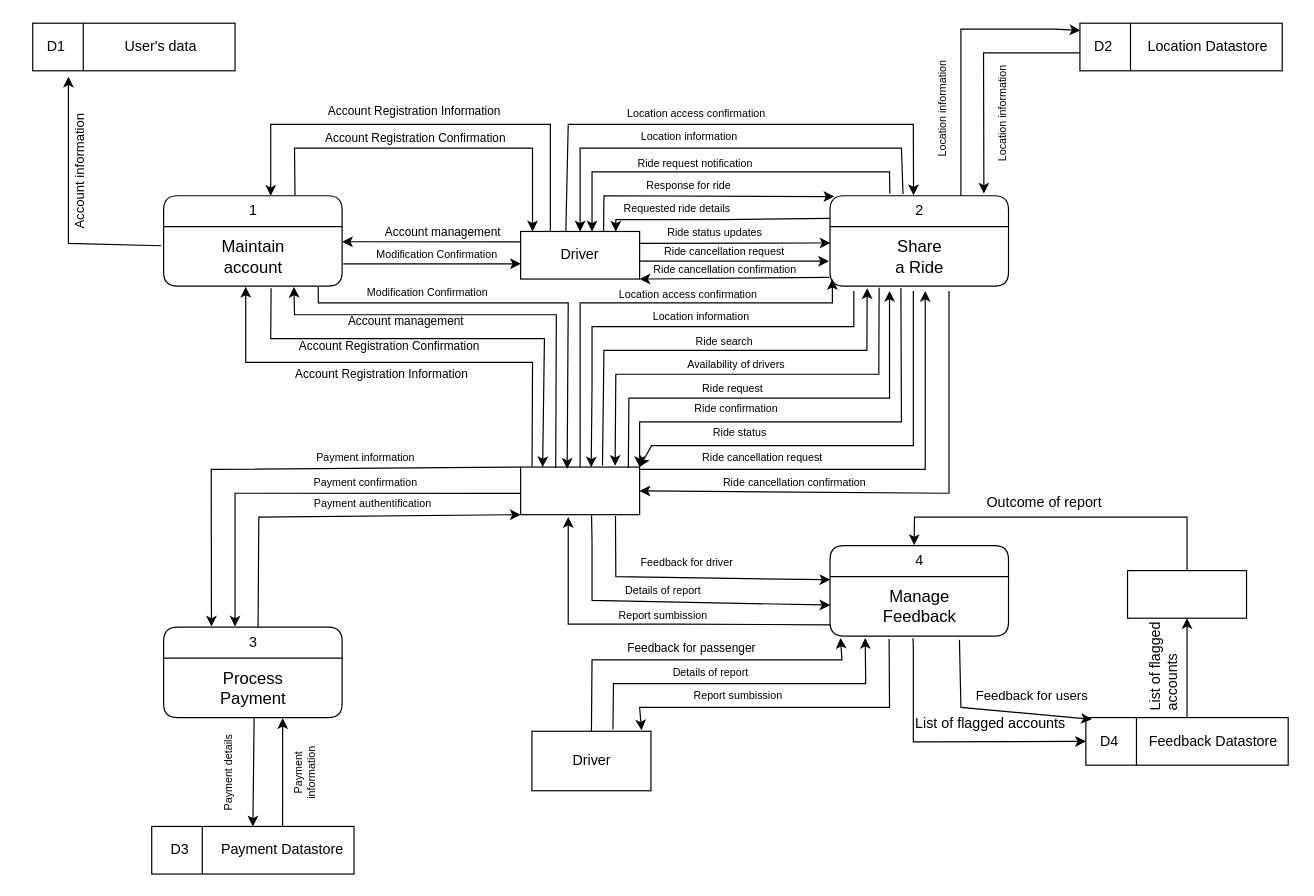
The diagram is 1314 pixels wide and 896 high, and some of its shapes have lost their labels. The shapes that lost their labels are listed below. From the top down, each one's centre as x and y in pixels, then its label:
At (579,490): "Passenger".
At (1186,593): "Administrator".
